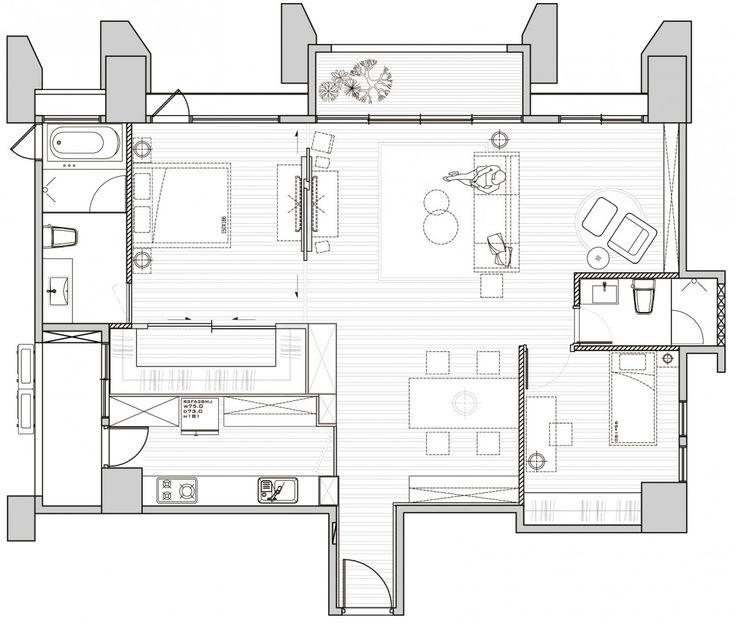bathroom: (43, 124, 126, 323), (579, 278, 717, 345)
bedroom: (132, 123, 300, 324)
children_room: (525, 348, 681, 527)
dining_room: (337, 345, 519, 502)
hallway: (337, 503, 395, 607)
kitchen: (110, 328, 337, 507)
living_room: (302, 122, 681, 346)
terrace: (315, 52, 523, 115), (41, 332, 101, 505)
